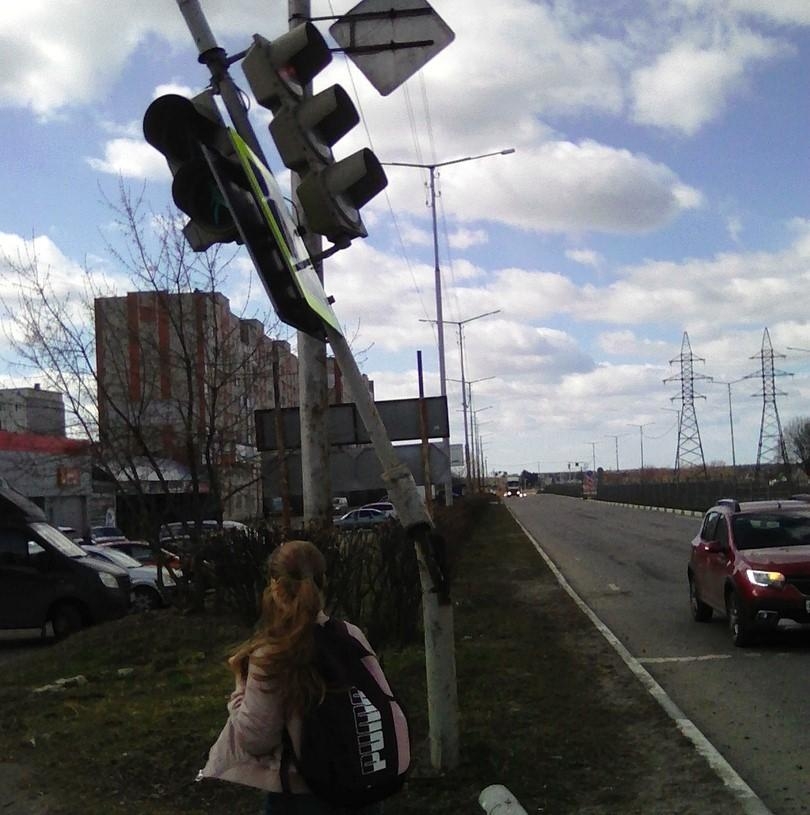off traffic light: (242, 21, 390, 247)
traffic light: (144, 89, 242, 251)
